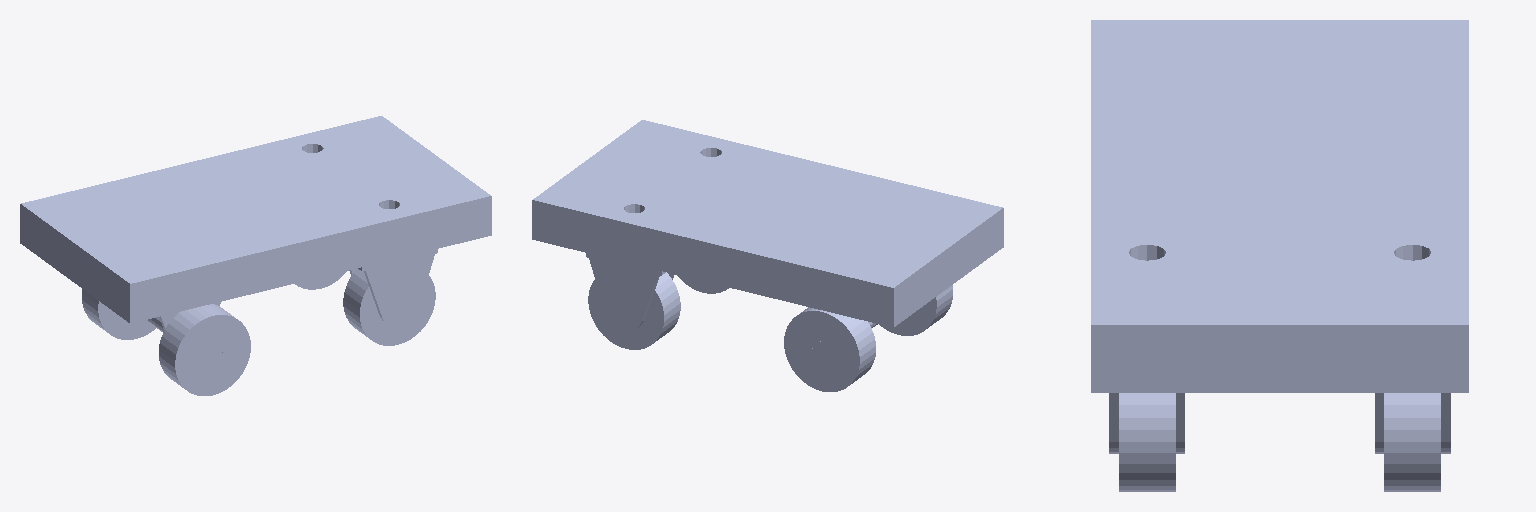
URDF robot description (FirstTry_URDF):
<?xml version="1.0" encoding="utf-8"?>
<!-- This URDF was automatically created by SolidWorks to URDF Exporter! Originally created by [author] ([email redacted]) 
     Commit Version: 1.6.0-1-g15f4949  Build Version: 1.6.7594.29634
     For more information, please see http://wiki.ros.org/sw_urdf_exporter -->
<robot
  name="FirstTry_URDF">
  <link
    name="chasis">
    <inertial>
      <origin
        xyz="0.0 0.0 -6.0"
        rpy="0 0 0" />
      <mass
        value="50.0082010252954" />
      <inertia
        ixx="1.12027870972558"
        ixy="-0.0185928970398008"
        ixz="0.00190686378820933"
        iyy="4.9468392282957"
        iyz="0.000937459767783745"
        izz="3.93286745360775" />
    </inertial>
    <visual>
      <origin
        xyz="0 0 0"
        rpy="0 0 0" />
      <geometry>
        <mesh
          filename="package://FirstTry_URDF/meshes/chasis.STL" />
      </geometry>
      <material
        name="">
        <color
          rgba="0.792156862745098 0.819607843137255 0.933333333333333 1" />
      </material>
    </visual>
    <collision>
      <origin
        xyz="0 0 0"
        rpy="0 0 0" />
      <geometry>
        <mesh
          filename="package://FirstTry_URDF/meshes/chasis.STL" />
      </geometry>
    </collision>
  </link>
  <link
    name="rear_axle">
    <inertial>
      <origin
        xyz="0 0.196163628606691 0"
        rpy="0 0 0" />
      <mass
        value="5.50851834676472" />
      <inertia
        ixx="0.0286856446413934"
        ixy="3.11616198099933E-35"
        ixz="1.93945645430612E-36"
        iyy="0.0256908677693375"
        iyz="-9.46644021851406E-20"
        izz="0.0286856446413934" />
    </inertial>
    <visual>
      <origin
        xyz="0 0 0"
        rpy="0 0 0" />
      <geometry>
        <mesh
          filename="package://FirstTry_URDF/meshes/rear_axle.STL" />
      </geometry>
      <material
        name="">
        <color
          rgba="0.792156862745098 0.819607843137255 0.933333333333333 1" />
      </material>
    </visual>
    <collision>
      <origin
        xyz="0 0 0"
        rpy="0 0 0" />
      <geometry>
        <mesh
          filename="package://FirstTry_URDF/meshes/rear_axle.STL" />
      </geometry>
    </collision>
  </link>
  <joint
    name="rear_axle_joint"
    type="revolute">
    <origin
      xyz="-0.17411 0 -0.1397"
      rpy="3.1416 0 0" />
    <parent
      link="chasis" />
    <child
      link="rear_axle" />
    <axis
      xyz="0 1 0" />
    <limit
      lower="0"
      upper="0"
      effort="0"
      velocity="0" />
  </joint>
  <link
    name="right_castor">
    <inertial>
      <origin
        xyz="-5.55111512312578E-17 -0.0574241163490277 -1.11022302462516E-16"
        rpy="0 0 0" />
      <mass
        value="1.31069724129228" />
      <inertia
        ixx="0.00457350619640945"
        ixy="2.46250393206182E-19"
        ixz="-5.96161204032111E-19"
        iyy="0.00432500957891741"
        iyz="3.05894930708921E-19"
        izz="0.00570892208149707" />
    </inertial>
    <visual>
      <origin
        xyz="0 0 0"
        rpy="0 0 0" />
      <geometry>
        <mesh
          filename="package://FirstTry_URDF/meshes/right_castor.STL" />
      </geometry>
      <material
        name="">
        <color
          rgba="0.792156862745098 0.819607843137255 0.933333333333333 1" />
      </material>
    </visual>
    <collision>
      <origin
        xyz="0 0 0"
        rpy="0 0 0" />
      <geometry>
        <mesh
          filename="package://FirstTry_URDF/meshes/right_castor.STL" />
      </geometry>
    </collision>
  </link>
  <joint
    name="right_castor_joint"
    type="revolute">
    <origin
      xyz="0.33389 -0.34856 0"
      rpy="1.5708 0 0" />
    <parent
      link="chasis" />
    <child
      link="right_castor" />
    <axis
      xyz="0 1 0" />
    <limit
      lower="0"
      upper="0"
      effort="0"
      velocity="0" />
  </joint>
  <link
    name="right_wheel">
    <inertial>
      <origin
        xyz="0 1.27000000000321E-05 0"
        rpy="0 0 0" />
      <mass
        value="2.31666659443376" />
      <inertia
        ixx="0.00747310310032442"
        ixy="-2.0218146735629E-35"
        ixz="-9.69728227153091E-37"
        iyy="0.0127042752705515"
        iyz="1.54905385393867E-19"
        izz="0.00747310310032442" />
    </inertial>
    <visual>
      <origin
        xyz="0 0 0"
        rpy="0 0 0" />
      <geometry>
        <mesh
          filename="package://FirstTry_URDF/meshes/right_wheel.STL" />
      </geometry>
      <material
        name="">
        <color
          rgba="0.792156862745098 0.819607843137255 0.933333333333333 1" />
      </material>
    </visual>
    <collision>
      <origin
        xyz="0 0 0"
        rpy="0 0 0" />
      <geometry>
        <mesh
          filename="package://FirstTry_URDF/meshes/right_wheel.STL" />
      </geometry>
    </collision>
  </link>
  <joint
    name="right_wheel_joint"
    type="revolute">
    <origin
      xyz="0 -0.1397 0"
      rpy="-1.5708 0 0" />
    <parent
      link="right_castor" />
    <child
      link="right_wheel" />
    <axis
      xyz="0 1 0" />
    <limit
      lower="0"
      upper="0"
      effort="0"
      velocity="0" />
  </joint>
  <link
    name="left_castor">
    <inertial>
      <origin
        xyz="0 -0.0574241163490277 3.38271077815477E-17"
        rpy="0 0 0" />
      <mass
        value="1.31069724129228" />
      <inertia
        ixx="0.00457350619640944"
        ixy="-6.58521875075794E-19"
        ixz="-4.2966771958207E-19"
        iyy="0.00432500957891741"
        iyz="9.36358356690362E-19"
        izz="0.00570892208149706" />
    </inertial>
    <visual>
      <origin
        xyz="0 0 0"
        rpy="0 0 0" />
      <geometry>
        <mesh
          filename="package://FirstTry_URDF/meshes/left_castor.STL" />
      </geometry>
      <material
        name="">
        <color
          rgba="0.792156862745098 0.819607843137255 0.933333333333333 1" />
      </material>
    </visual>
    <collision>
      <origin
        xyz="0 0 0"
        rpy="0 0 0" />
      <geometry>
        <mesh
          filename="package://FirstTry_URDF/meshes/left_castor.STL" />
      </geometry>
    </collision>
  </link>
  <joint
    name="left_castor_joint"
    type="revolute">
    <origin
      xyz="0.33389 0.0070364 0"
      rpy="1.5708 0 0" />
    <parent
      link="chasis" />
    <child
      link="left_castor" />
    <axis
      xyz="0 1 0" />
    <limit
      lower="0"
      upper="0"
      effort="0"
      velocity="0" />
  </joint>
  <link
    name="left_wheel">
    <inertial>
      <origin
        xyz="1.11022302462516E-16 1.27000000000044E-05 0"
        rpy="0 0 0" />
      <mass
        value="2.31666659443376" />
      <inertia
        ixx="0.00747310310032442"
        ixy="-2.0218146735629E-35"
        ixz="-9.69728227153071E-37"
        iyy="0.0127042752705515"
        iyz="2.58175642323111E-20"
        izz="0.00747310310032442" />
    </inertial>
    <visual>
      <origin
        xyz="0 0 0"
        rpy="0 0 0" />
      <geometry>
        <mesh
          filename="package://FirstTry_URDF/meshes/left_wheel.STL" />
      </geometry>
      <material
        name="">
        <color
          rgba="0.792156862745098 0.819607843137255 0.933333333333333 1" />
      </material>
    </visual>
    <collision>
      <origin
        xyz="0 0 0"
        rpy="0 0 0" />
      <geometry>
        <mesh
          filename="package://FirstTry_URDF/meshes/left_wheel.STL" />
      </geometry>
    </collision>
  </link>
  <joint
    name="left_wheel_joint"
    type="revolute">
    <origin
      xyz="0 -0.1397 0"
      rpy="-1.5708 0 0" />
    <parent
      link="left_castor" />
    <child
      link="left_wheel" />
    <axis
      xyz="0 1 0" />
    <limit
      lower="0"
      upper="0"
      effort="0"
      velocity="0" />
  </joint>
</robot>

--- Facts derived from the render (not from the file) ---
Views: 3 orthographic renders of the robot side by side, from view 1: azimuth 30°, elevation 25°; view 2: azimuth 150°, elevation 25°; view 3: azimuth 270°, elevation 25°.
Robot: FirstTry_URDF — 6 links, 5 joints (5 revolute); root link chasis; default pose: all joints at 0.
Visible links, largest first — view 1: chasis, rear_axle, right_castor, right_wheel; view 2: chasis, rear_axle, left_castor, left_wheel; view 3: chasis, right_wheel, left_wheel, right_castor, left_castor.
Boxes of the visible links, x1,y1,x2,y2 form: chasis: (20, 116, 491, 329); rear_axle: (82, 289, 250, 395); right_castor: (349, 249, 437, 327); right_wheel: (343, 268, 435, 345); chasis: (532, 120, 1003, 327); rear_axle: (784, 285, 952, 391); left_castor: (586, 253, 674, 331); left_wheel: (588, 272, 680, 349); chasis: (1091, 20, 1468, 392); right_wheel: (1119, 393, 1175, 491); left_wheel: (1384, 393, 1440, 491); right_castor: (1109, 393, 1184, 453); left_castor: (1375, 393, 1450, 453).
Size in the robot's own frame: 0.9652 by 0.508 by 0.3429 metres.
Meshes: 6 distinct files referenced, 6 mesh visuals loaded (6 binary STL).